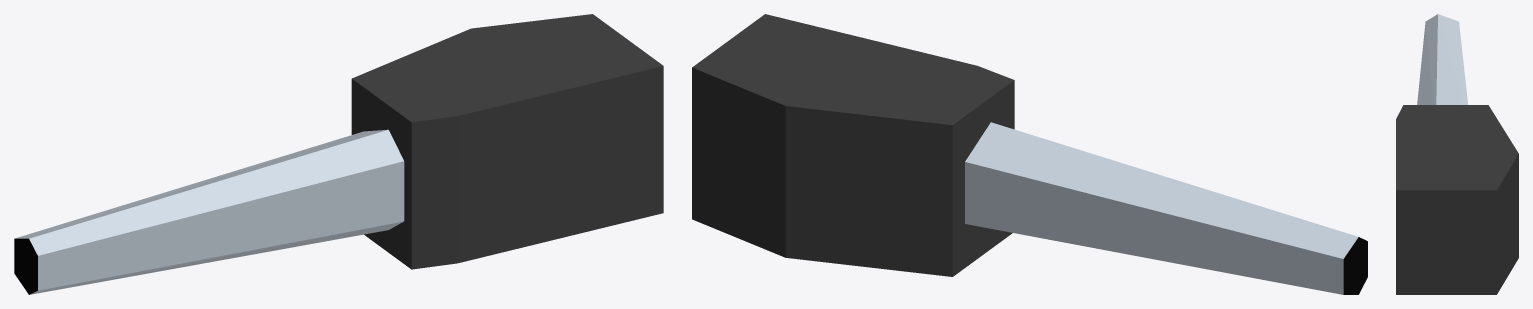
Rendered from Burst.FBX.
The picture shows the model from 3 angles, left to right: view 1: azimuth 30°, elevation 25°; view 2: azimuth 150°, elevation 25°; view 3: azimuth 270°, elevation 25°; orthographic projection. The views are drawn at different scales.
Parts seen in each view (by area): view 1: VIFS001, VIFS002, VIFS003; view 2: VIFS001, VIFS002, VIFS003; view 3: VIFS001, VIFS002.
Boxes of the visible parts, bbox=[...] form: VIFS001: bbox=[351, 14, 663, 269]; VIFS002: bbox=[15, 129, 404, 294]; VIFS003: bbox=[14, 238, 37, 294]; VIFS001: bbox=[692, 14, 1014, 276]; VIFS002: bbox=[965, 122, 1358, 294]; VIFS003: bbox=[1343, 237, 1367, 294]; VIFS001: bbox=[1396, 105, 1518, 294]; VIFS002: bbox=[1417, 14, 1467, 104].
Bounding box in the file's own units: 1.17 × 0.2709 × 0.2882.
